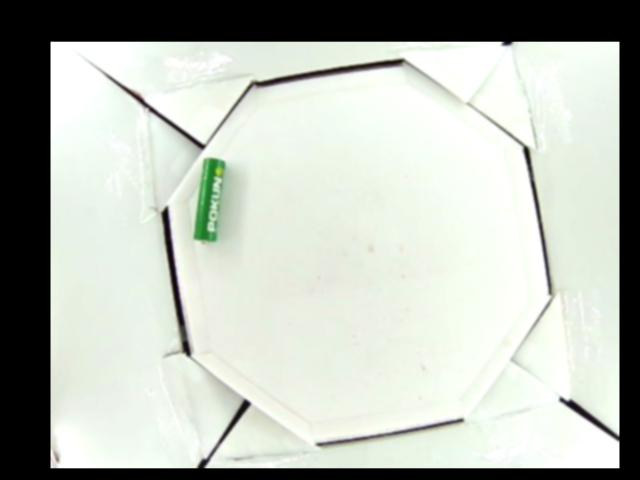Battery: (192, 156, 226, 246)
